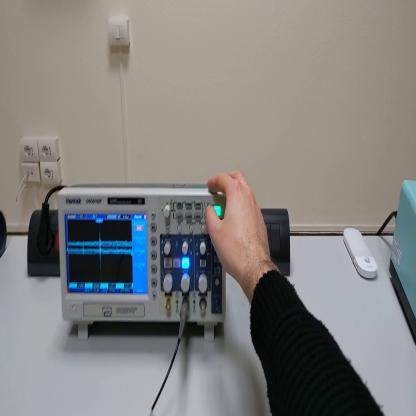hand: (205, 170, 273, 286)
oscilloscope: (59, 182, 227, 340)
socket: (27, 211, 61, 278), (2, 211, 9, 260)
welder station: (389, 180, 416, 347)
